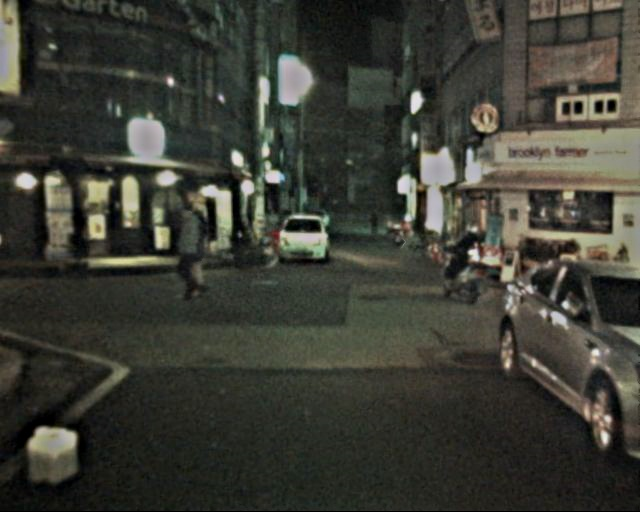person: (169, 203, 212, 301), (454, 222, 490, 303)
